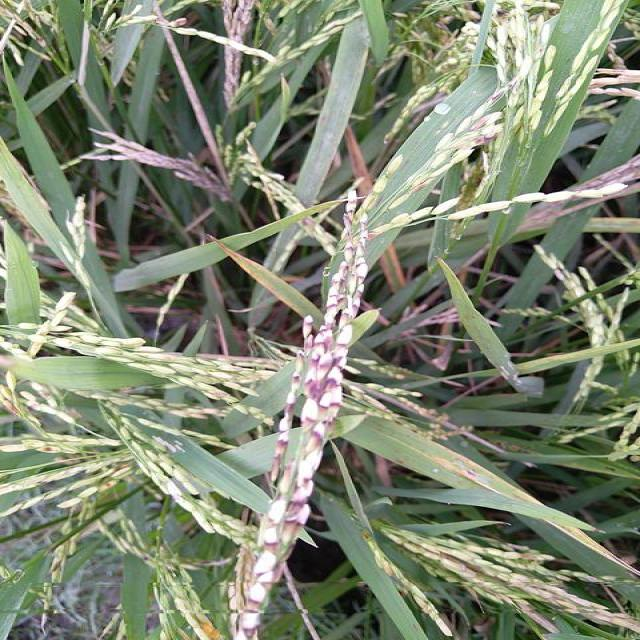Panicle Blight: (241, 191, 367, 639), (519, 151, 639, 239), (531, 585, 639, 637), (461, 110, 505, 164), (513, 600, 560, 639)
